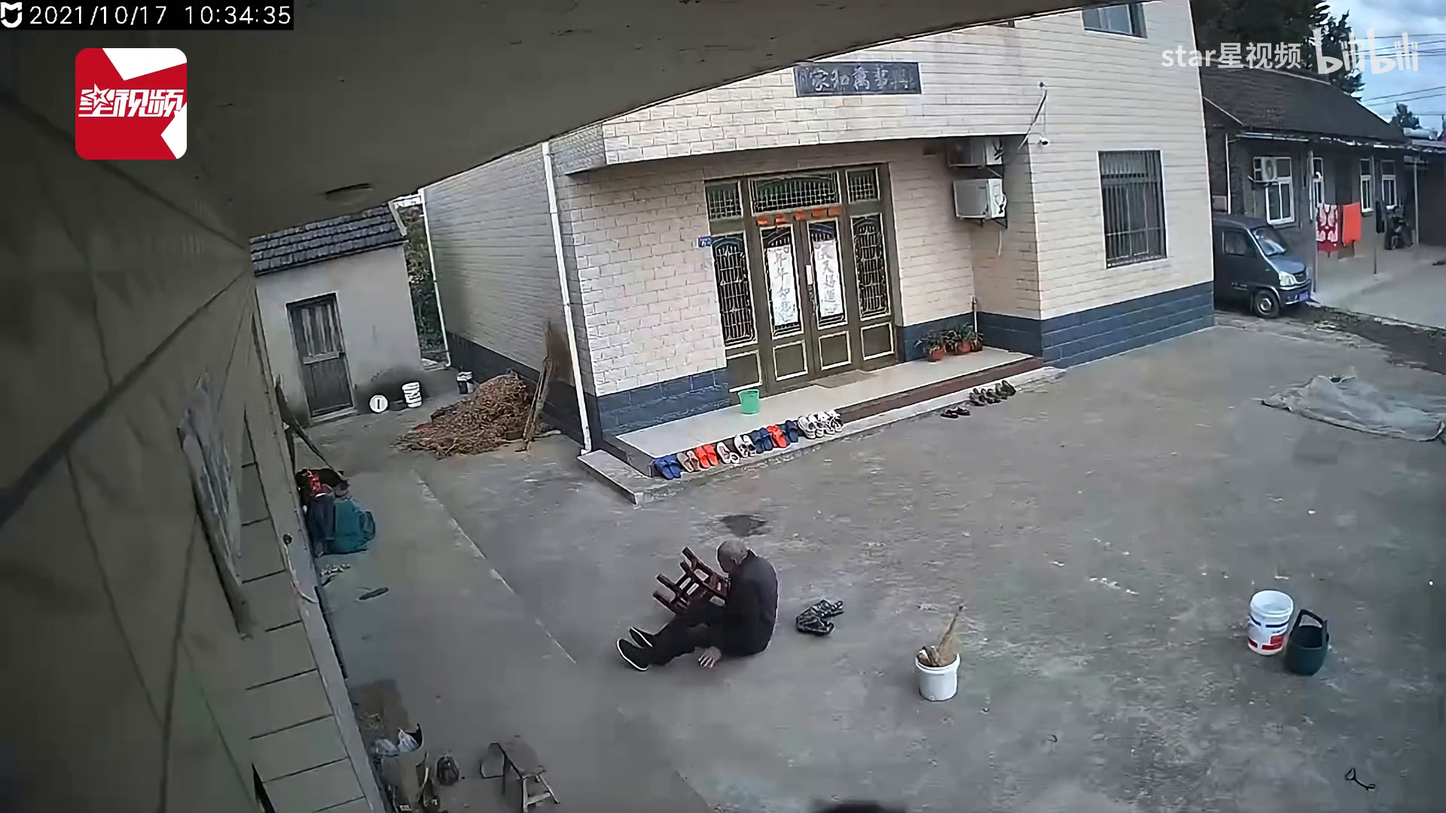half_up: (614, 538, 779, 671)
